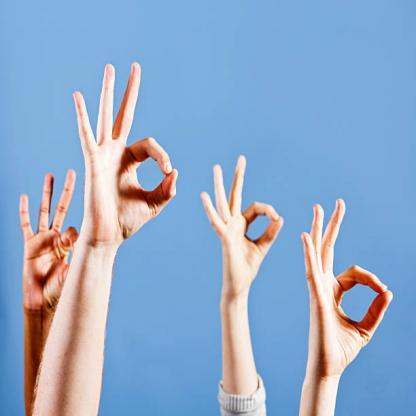ok: (70, 55, 180, 248), (299, 197, 393, 372), (200, 152, 287, 298)
